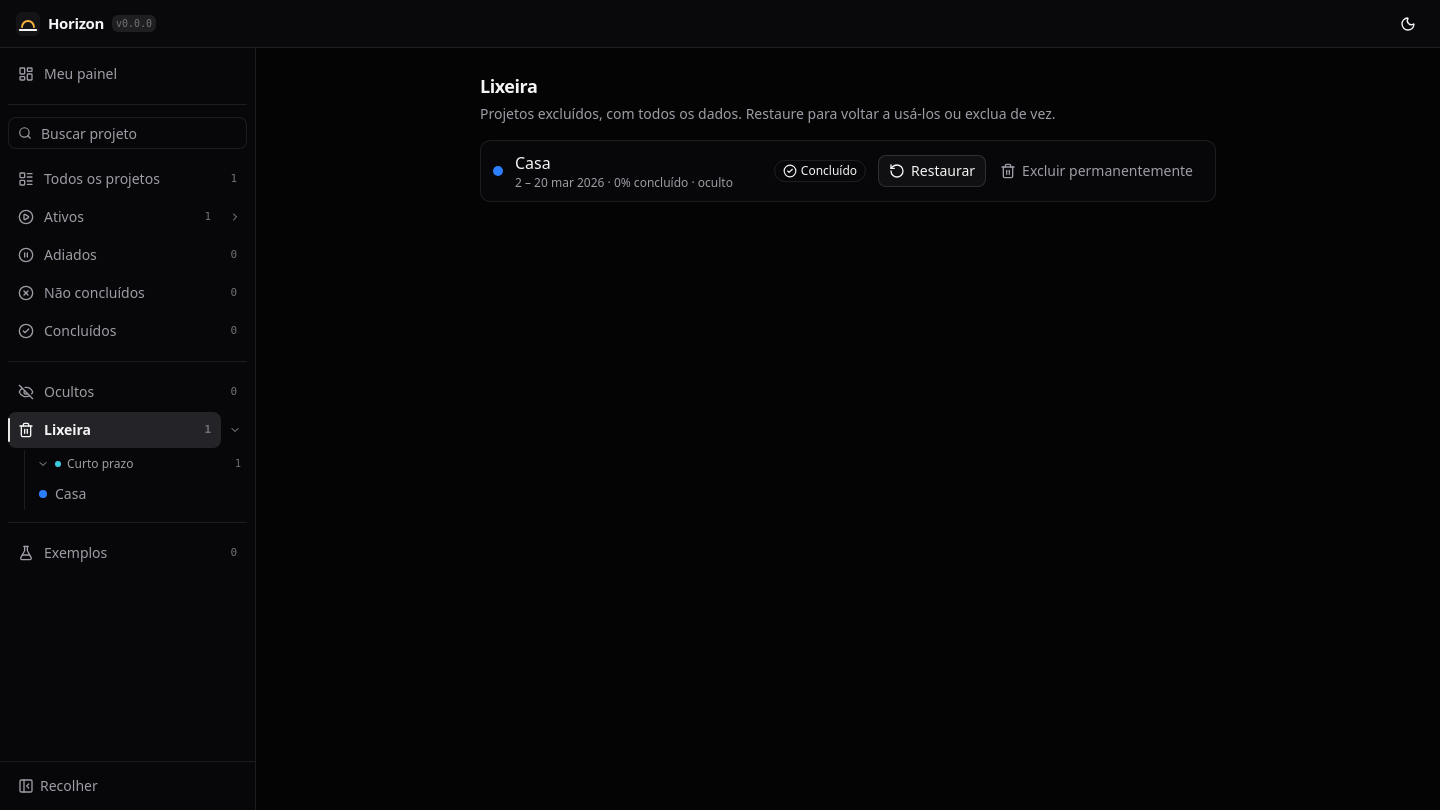
Test: visibility and trash flows › restores a hidden project from the trash back to "Ocultos"
The image size is (1440, 810).
Check: the text "Concluído" is shown, box 774,160 -> 866,182
Click the button "Restaurar".
click(932, 171)  # box 878,155 -> 986,187
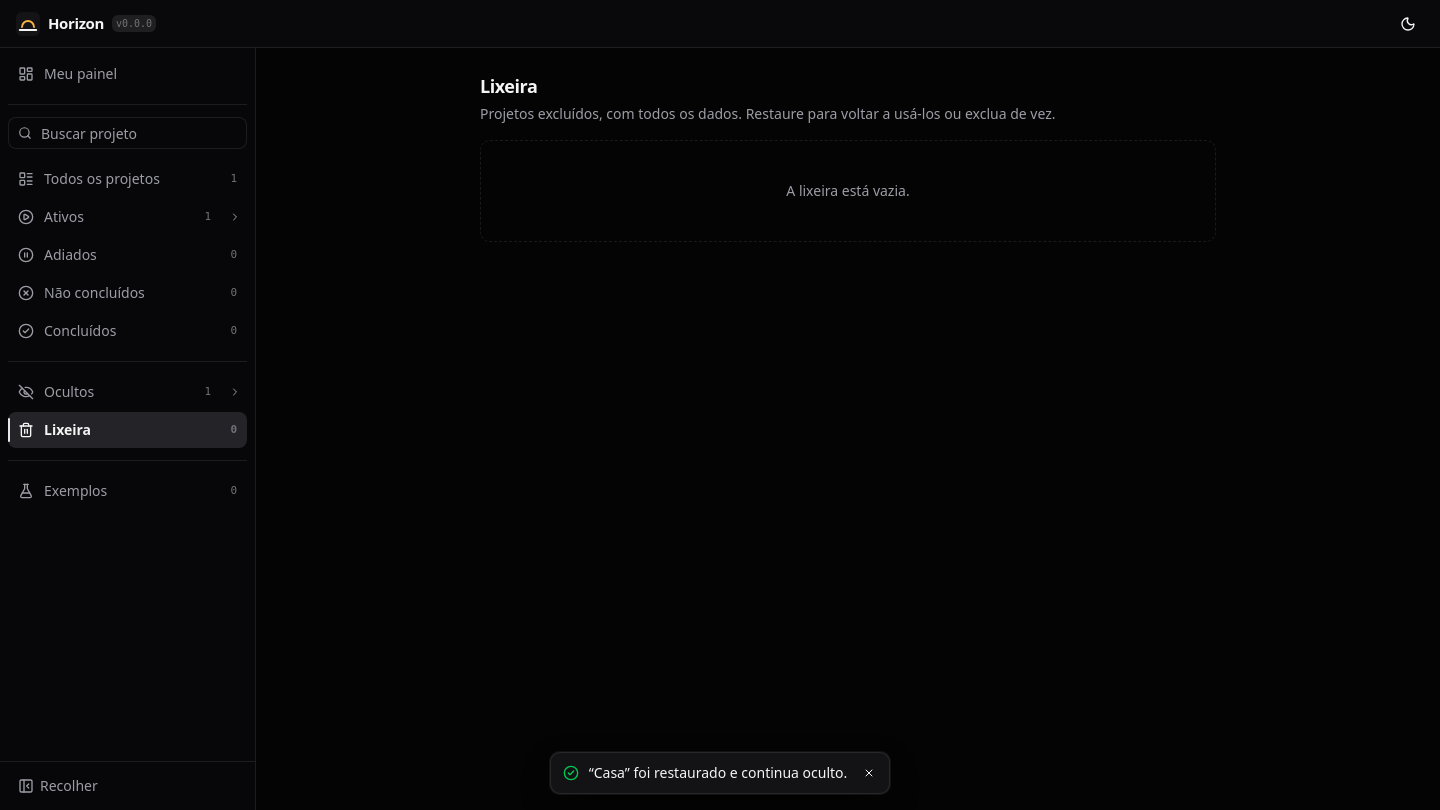
Check: the text "A lixeira está vazia." is shown, box 480,140 -> 1216,242
